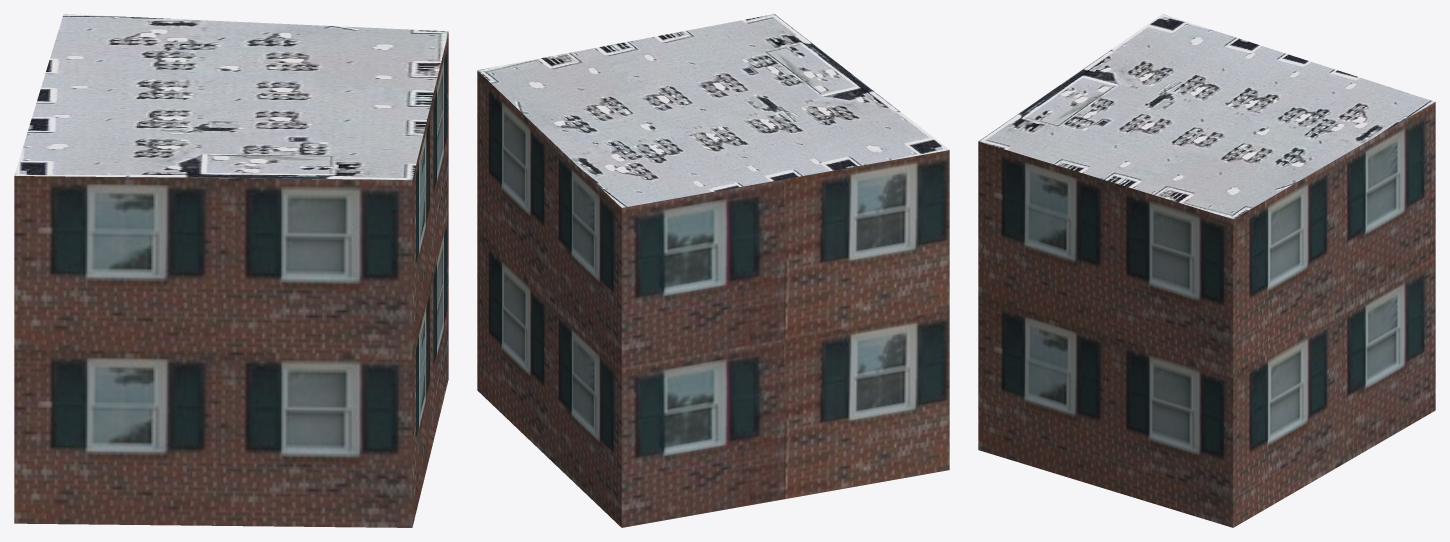
File: ResTex__4793.fbx
3 renders of one model, left to right at view 1: azimuth 30°, elevation 25°; view 2: azimuth 150°, elevation 25°; view 3: azimuth 270°, elevation 25°, orthographic. The views are drawn at different scales.
Visible parts, largest first — view 1: CityEngineMaterial_14_m, CityEngineMaterial_4_m; view 2: CityEngineMaterial_14_m, CityEngineMaterial_4_m; view 3: CityEngineMaterial_14_m, CityEngineMaterial_4_m.
Part boxes in pixels (left/top/right/bottom): CityEngineMaterial_14_m: left=14, top=32, right=448, bottom=527; CityEngineMaterial_4_m: left=14, top=14, right=448, bottom=180; CityEngineMaterial_14_m: left=477, top=71, right=949, bottom=527; CityEngineMaterial_4_m: left=477, top=14, right=949, bottom=207; CityEngineMaterial_14_m: left=978, top=102, right=1435, bottom=527; CityEngineMaterial_4_m: left=978, top=14, right=1434, bottom=218.
Size of the model in its own units: 8.56 by 6 by 8.06.
Materials: 2 (2 with a texture image).
